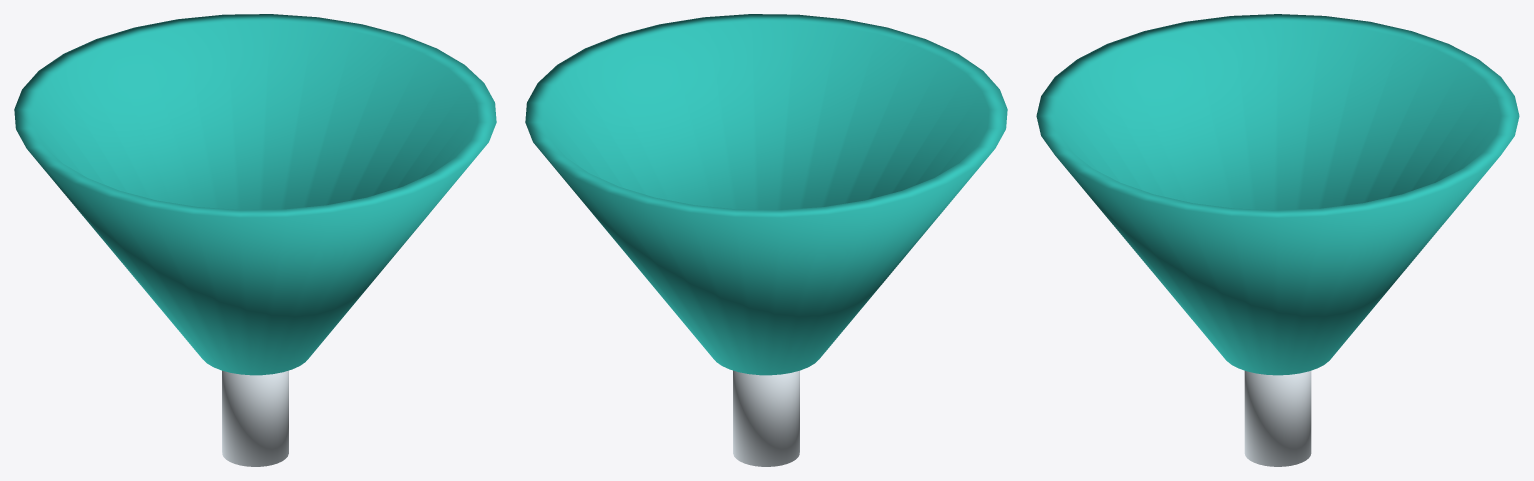
File: laboratory-funnel-lite.glb
3 views of the same model, side by side, from view 1: azimuth 30°, elevation 25°; view 2: azimuth 150°, elevation 25°; view 3: azimuth 270°, elevation 25° (orthographic).
Parts seen in each view (by area): view 1: Open funnel; view 2: Open funnel; view 3: Open funnel.
Boxes of the visible parts, <box> form: Open funnel: <box>14,14,496,466</box>; Open funnel: <box>525,14,1007,466</box>; Open funnel: <box>1036,14,1519,466</box>.
Bounding box in the file's own units: 1.3 × 1 × 1.3.
